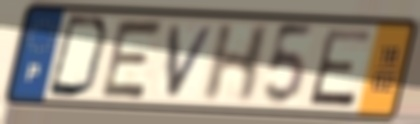5: (259, 20, 320, 111)
D: (44, 12, 113, 101)
E: (97, 17, 168, 102), (305, 26, 376, 110)
H: (199, 23, 274, 105)
V: (164, 23, 219, 100)
